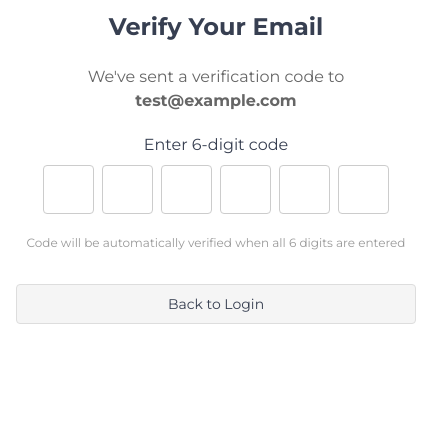
EmailVerificationPage › Failed email verification › should show error and stay on page when verification fails
This screenshot has width=433, height=436.
Type "9" into the 1st field.
click(68, 189); type("9")  # box [43, 165, 94, 214]
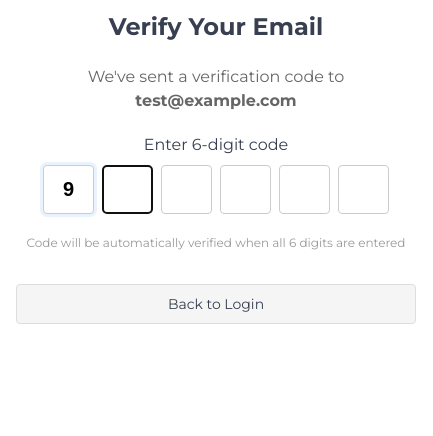
Type "9" into the 2nd field.
click(128, 189); type("9")  # box [102, 165, 153, 214]
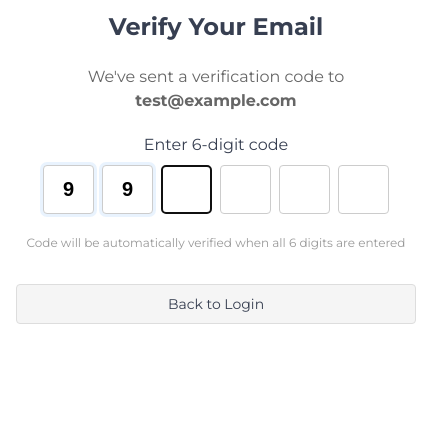
Type "9" into the 3rd field.
click(186, 189); type("9")  # box [161, 165, 212, 214]
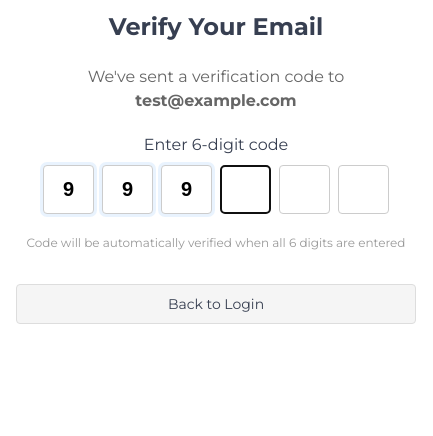
Type "9" into the 4th field.
click(246, 189); type("9")  # box [220, 165, 271, 214]
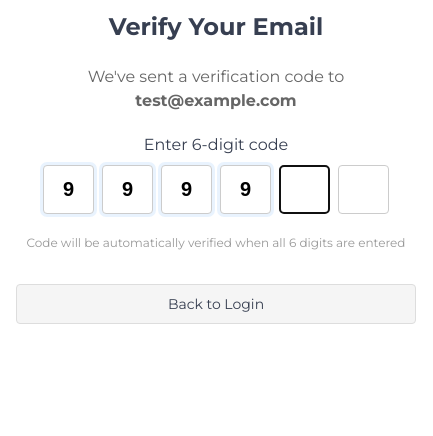
Type "9" into the 5th field.
click(304, 189); type("9")  # box [279, 165, 330, 214]
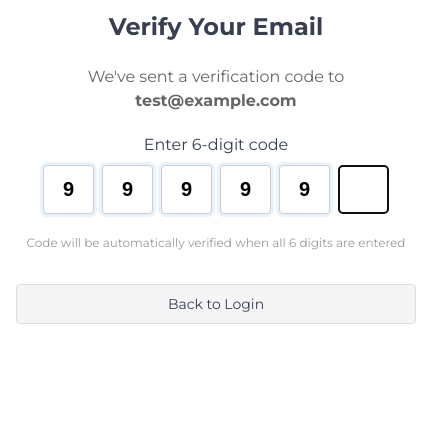
Type "9" into the 6th field.
click(364, 189); type("9")  # box [338, 165, 389, 214]
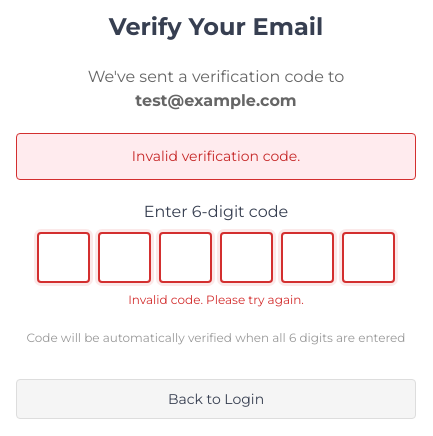
Check: the text "Invalid verification code." is shown, box [16, 133, 416, 180]
